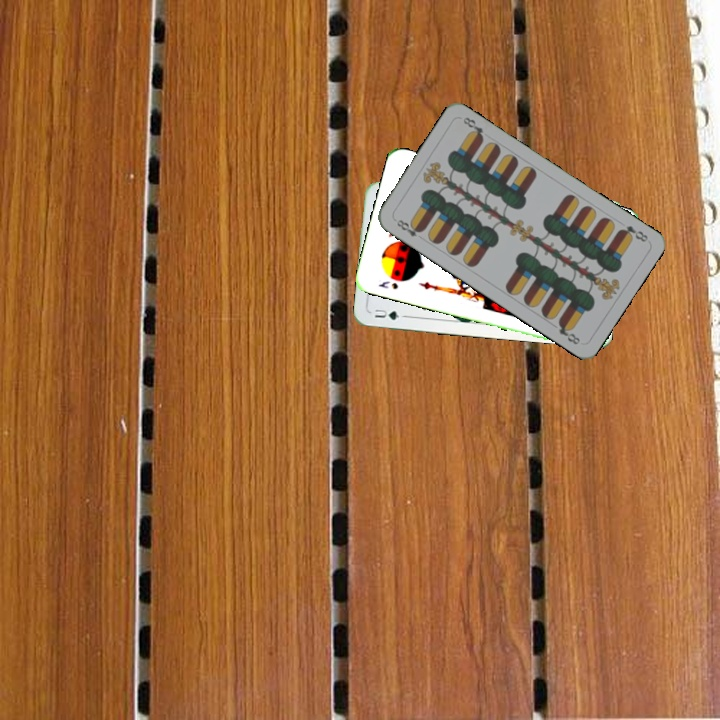E8: (614, 221, 651, 245), (392, 215, 426, 239)
GU: (371, 305, 402, 322)
SK: (374, 277, 401, 292)
